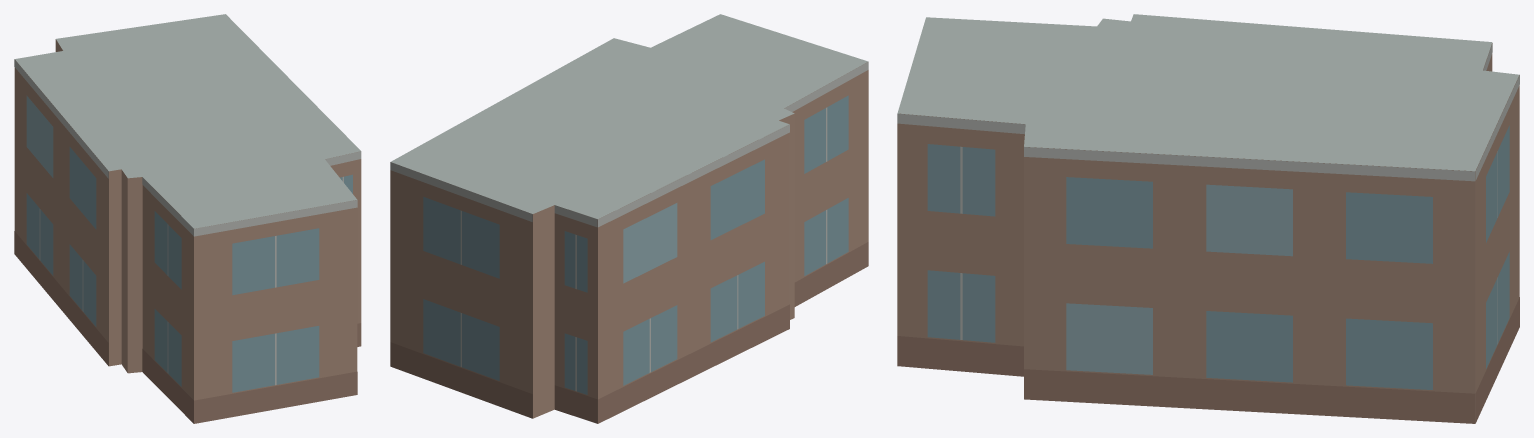
The model's file is survey-upis-32664557.glb.
3 renders of one model, left to right at view 1: azimuth 30°, elevation 25°; view 2: azimuth 150°, elevation 25°; view 3: azimuth 270°, elevation 25°, orthographic. The views are drawn at different scales.
Parts seen in each view (by area): view 1: survey-upis-32664557.tmp; view 2: survey-upis-32664557.tmp; view 3: survey-upis-32664557.tmp.
Part boxes in pixels (bbox=[...]): survey-upis-32664557.tmp: bbox=[14, 14, 361, 423]; survey-upis-32664557.tmp: bbox=[390, 14, 868, 423]; survey-upis-32664557.tmp: bbox=[897, 14, 1519, 423].
Size of the model in its own units: 8.16 by 6.1 by 13.63.
